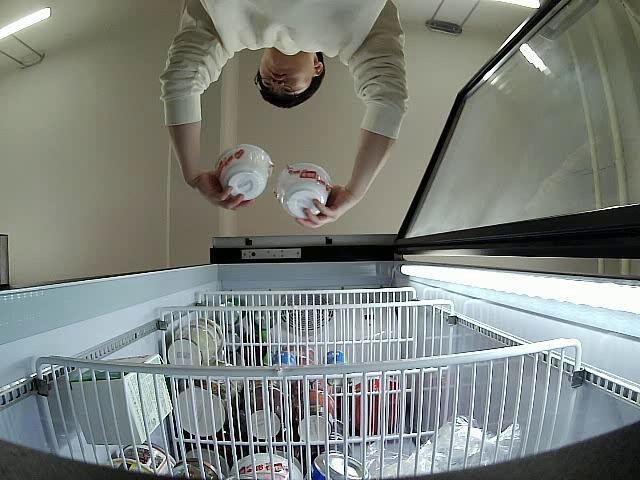09_yukGaeJang: (216, 145, 275, 200), (280, 163, 334, 219)
